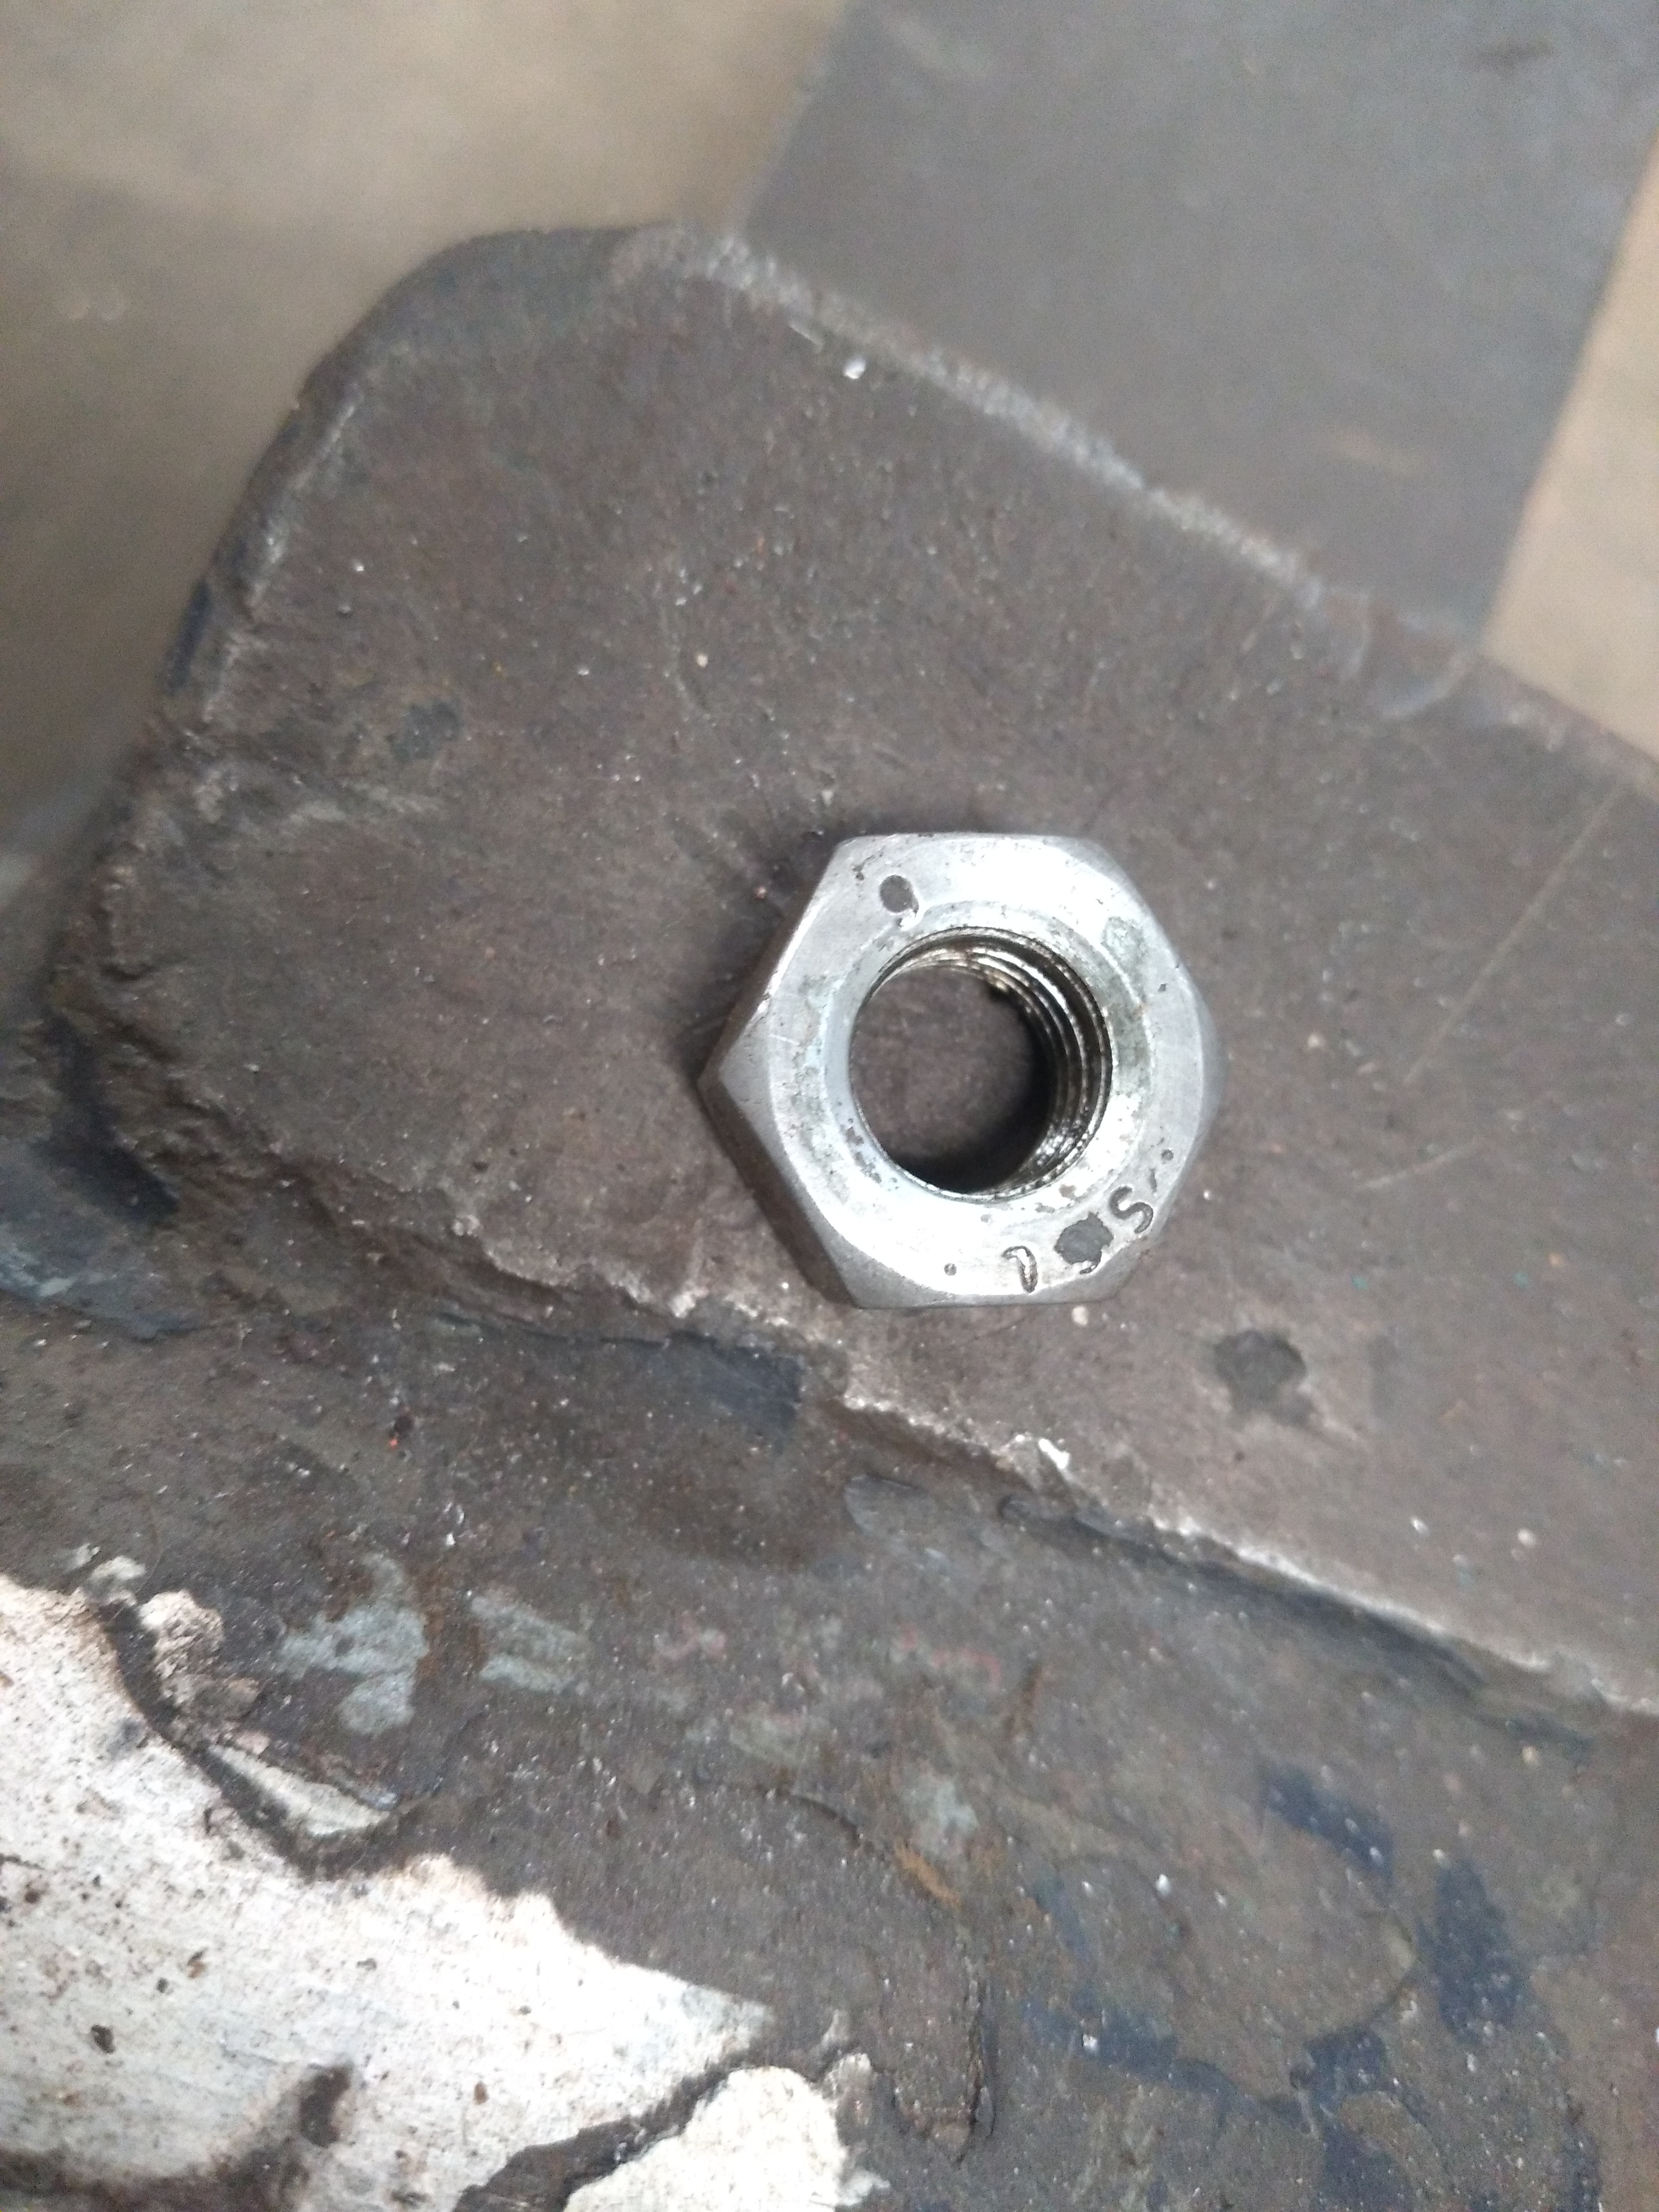Thread: (775, 850, 1201, 1249)
